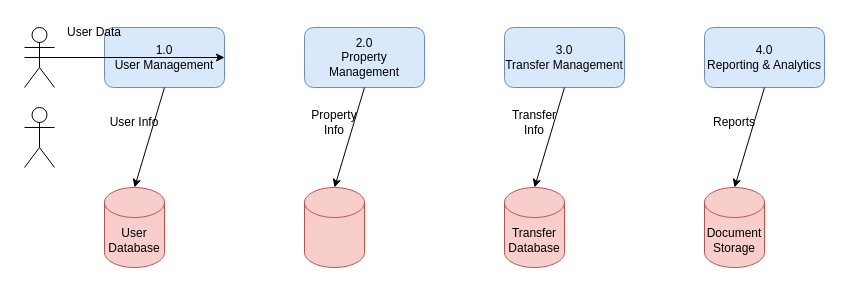
The diagram is 842 pixels wide and 285 high, and some of its shapes have lost their labels. The box of each missing label's shape, as (x1, y1, x2, y2) in pixels:
Admin: (24, 106, 54, 168)
Property Database: (304, 186, 364, 268)
Users: (24, 26, 54, 88)
